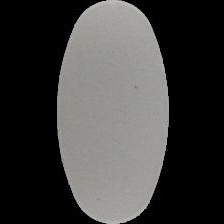50090-1434: (0, 0, 224, 224)
